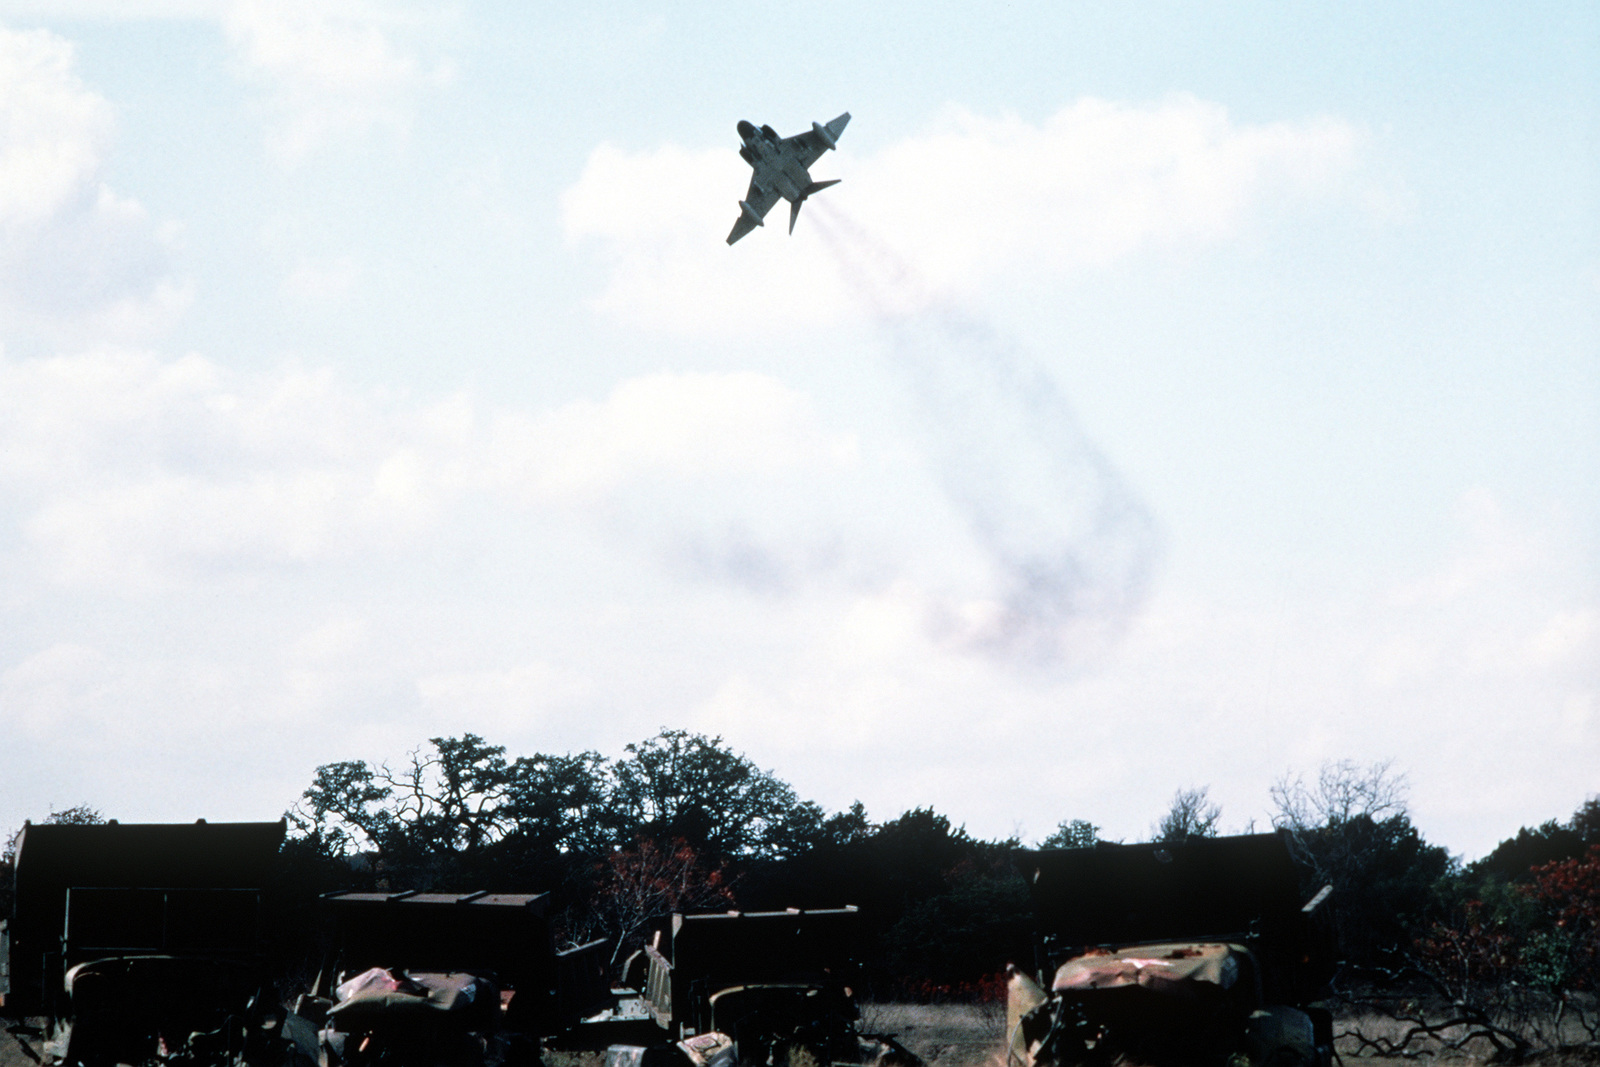F4: (725, 111, 851, 247)
